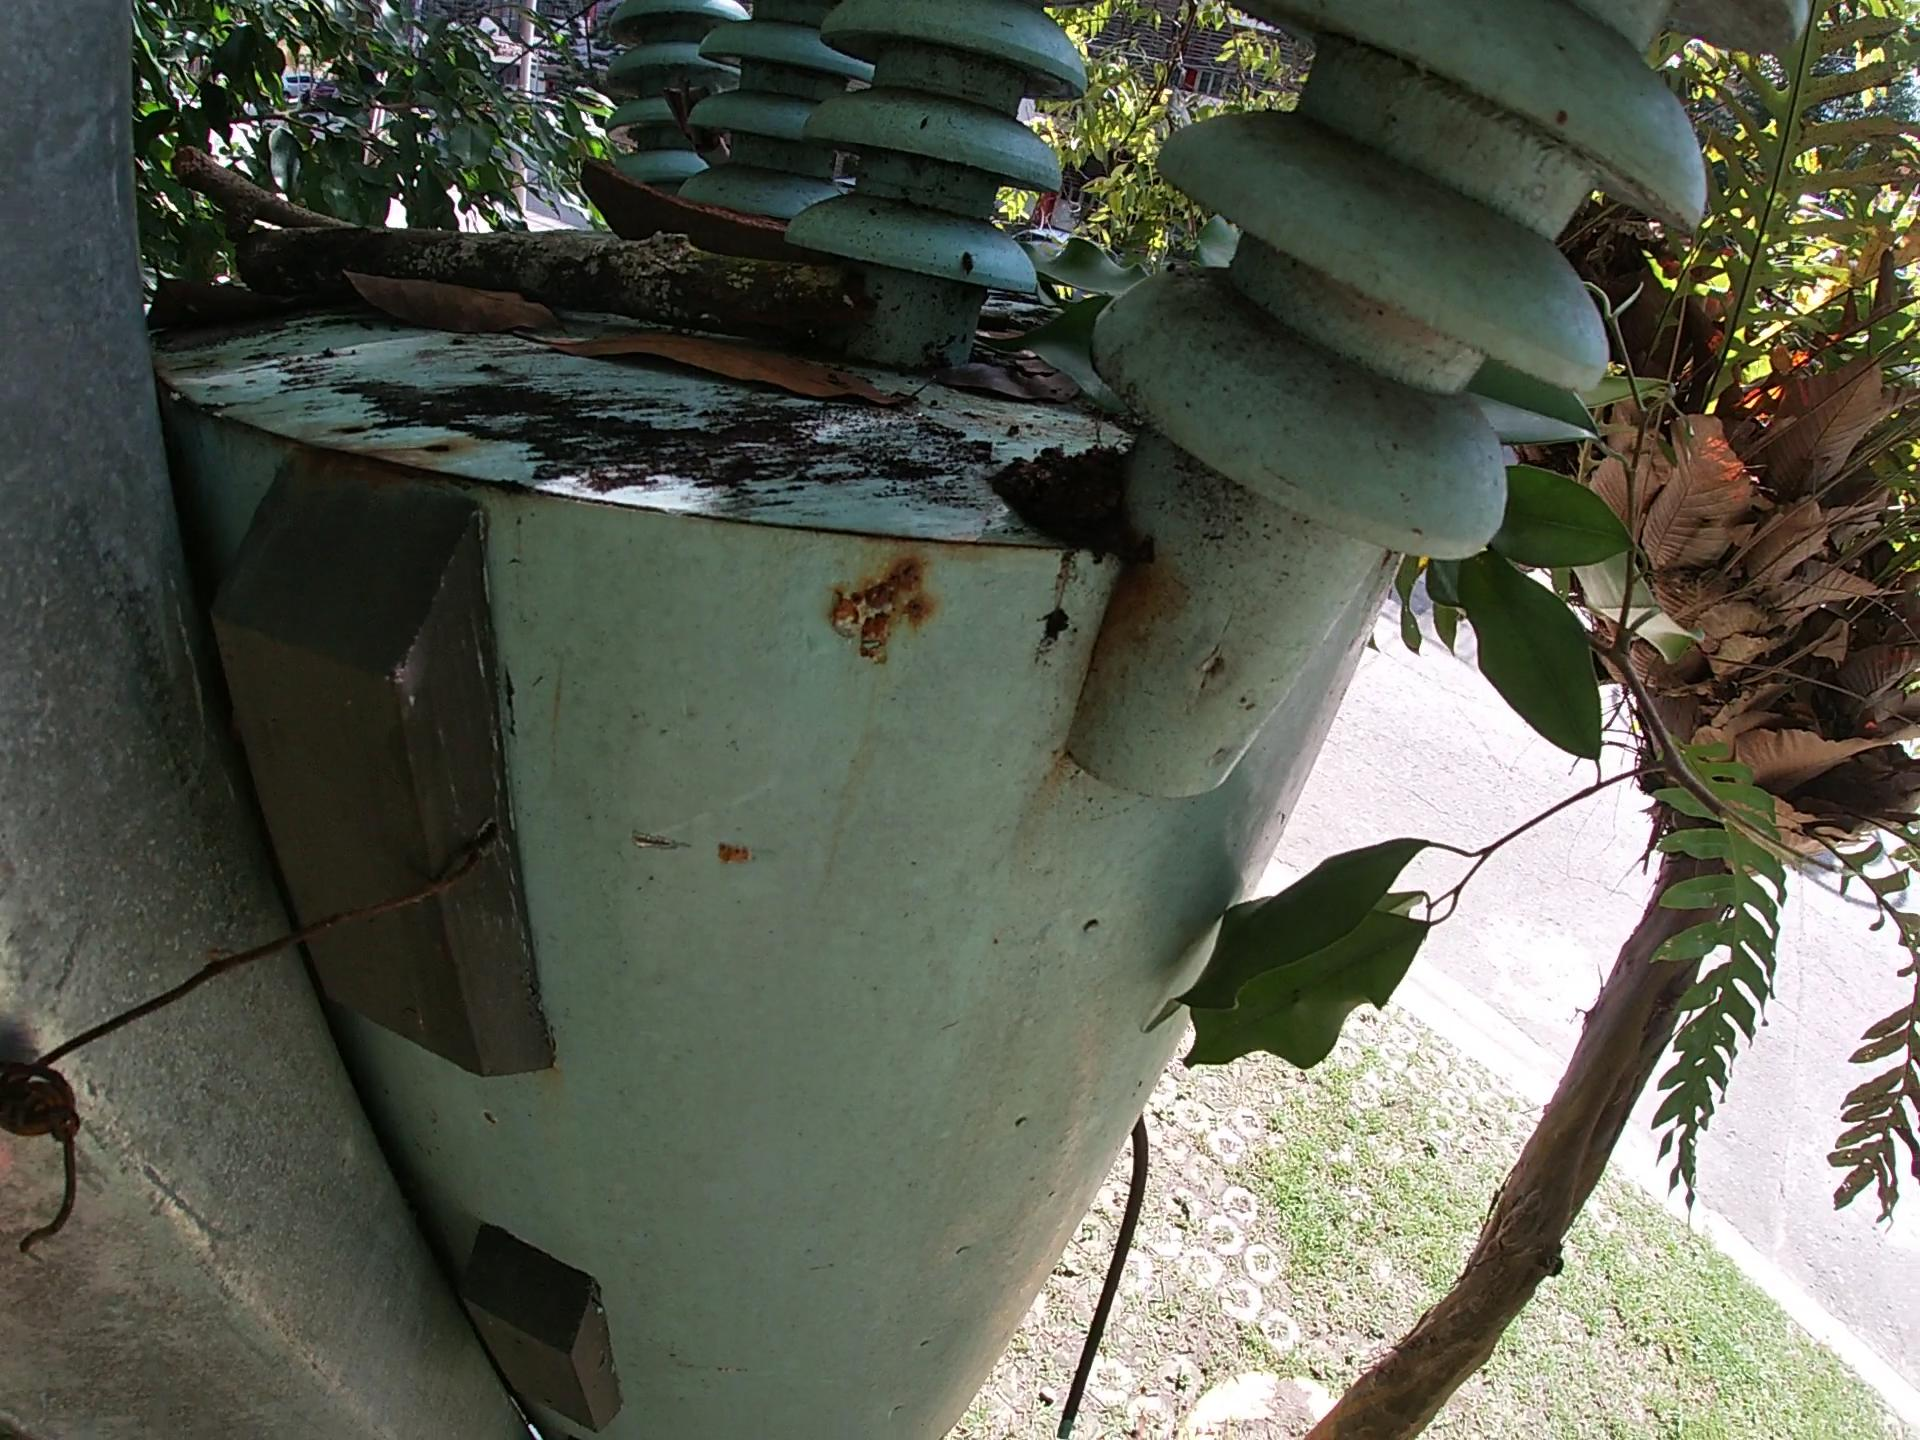branch with leaves: (1135, 315, 1731, 1072)
leaf: (952, 192, 1119, 437), (513, 316, 936, 408), (333, 263, 544, 331)
mahogany fruit: (578, 160, 791, 256)
tree branch: (197, 241, 835, 296), (169, 132, 417, 231)
